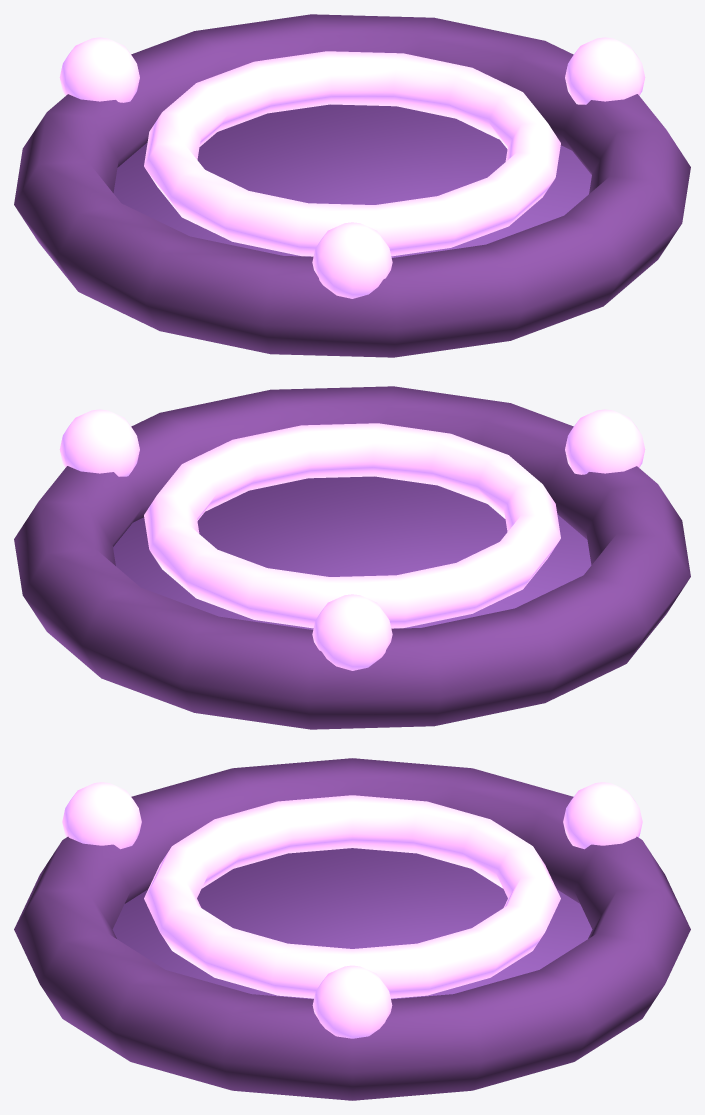
File: wormhole-portal.glb
The picture shows the model from 3 angles, top to bottom: view 1: azimuth 30°, elevation 25°; view 2: azimuth 150°, elevation 25°; view 3: azimuth 270°, elevation 25°; orthographic projection.
Visible parts, largest first — view 1: mesh_wormhole_portal_body, mesh_wormhole_portal_accent, mesh_wormhole_portal_core; view 2: mesh_wormhole_portal_body, mesh_wormhole_portal_accent, mesh_wormhole_portal_core; view 3: mesh_wormhole_portal_body, mesh_wormhole_portal_accent, mesh_wormhole_portal_core.
Part boxes in pixels (x1,y1,x2,y2): mesh_wormhole_portal_body: (14, 14, 690, 357); mesh_wormhole_portal_accent: (59, 37, 645, 298); mesh_wormhole_portal_core: (113, 104, 591, 257); mesh_wormhole_portal_body: (14, 386, 690, 729); mesh_wormhole_portal_accent: (59, 409, 645, 670); mesh_wormhole_portal_core: (113, 476, 591, 629); mesh_wormhole_portal_body: (14, 758, 690, 1100); mesh_wormhole_portal_accent: (62, 782, 642, 1038); mesh_wormhole_portal_core: (112, 848, 592, 999).
Bounding box in the file's own units: 0.714 × 0.152 × 0.714.
